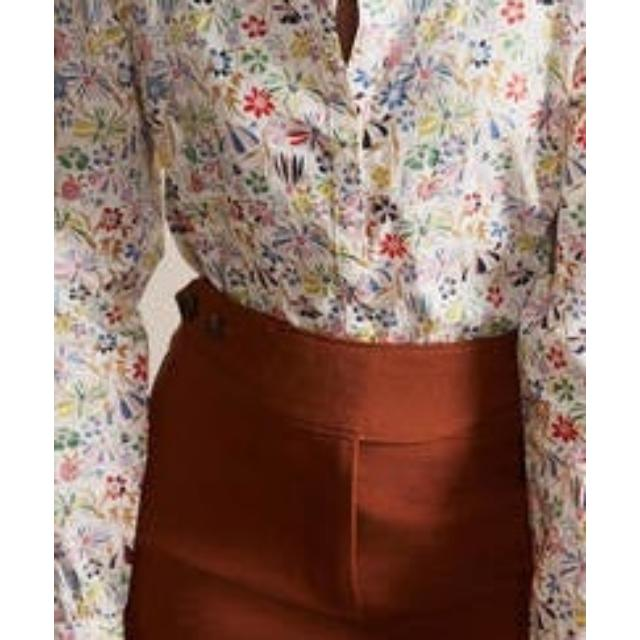cotton: (54, 0, 586, 640)
